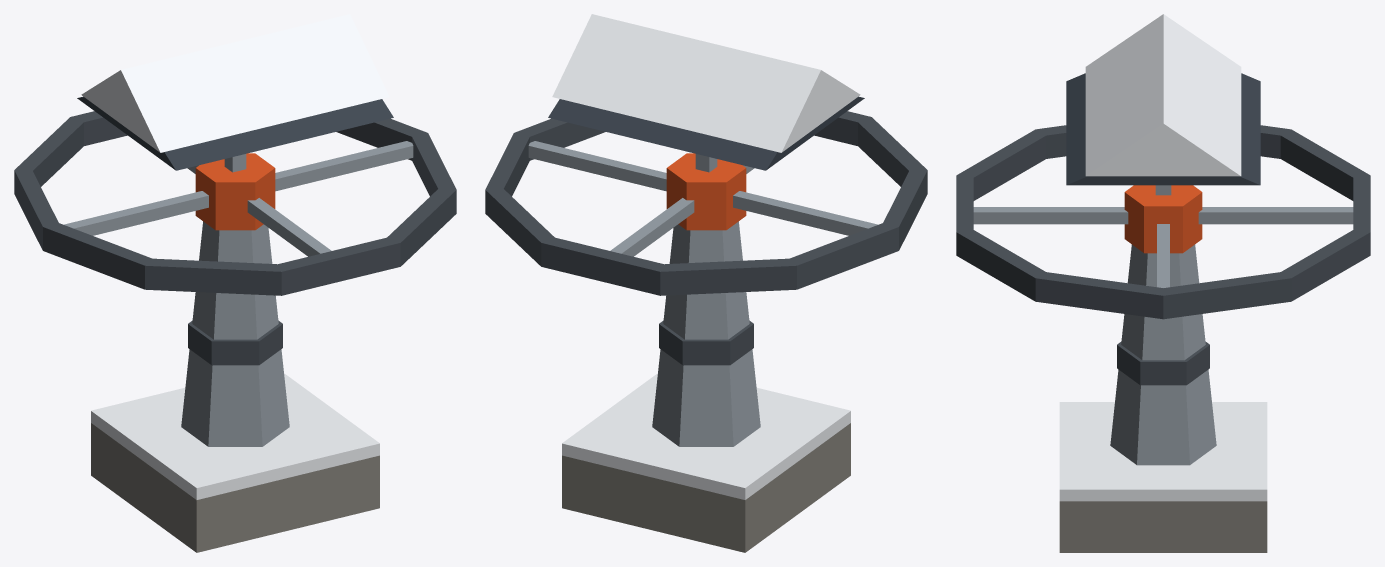
File: surface-terminal-top.glb
3 renders of one model, left to right at view 1: azimuth 30°, elevation 25°; view 2: azimuth 150°, elevation 25°; view 3: azimuth 270°, elevation 25°, orthographic. The views are drawn at different scales.
Parts seen in each view (by area): view 1: surface-terminal-top; view 2: surface-terminal-top; view 3: surface-terminal-top.
Part boxes in pixels (x1,y1,x2,y2): surface-terminal-top: (14, 14, 456, 552); surface-terminal-top: (485, 14, 927, 552); surface-terminal-top: (956, 14, 1370, 552).
Bounding box in the file's own units: 3.36 × 3.75 × 3.2.
